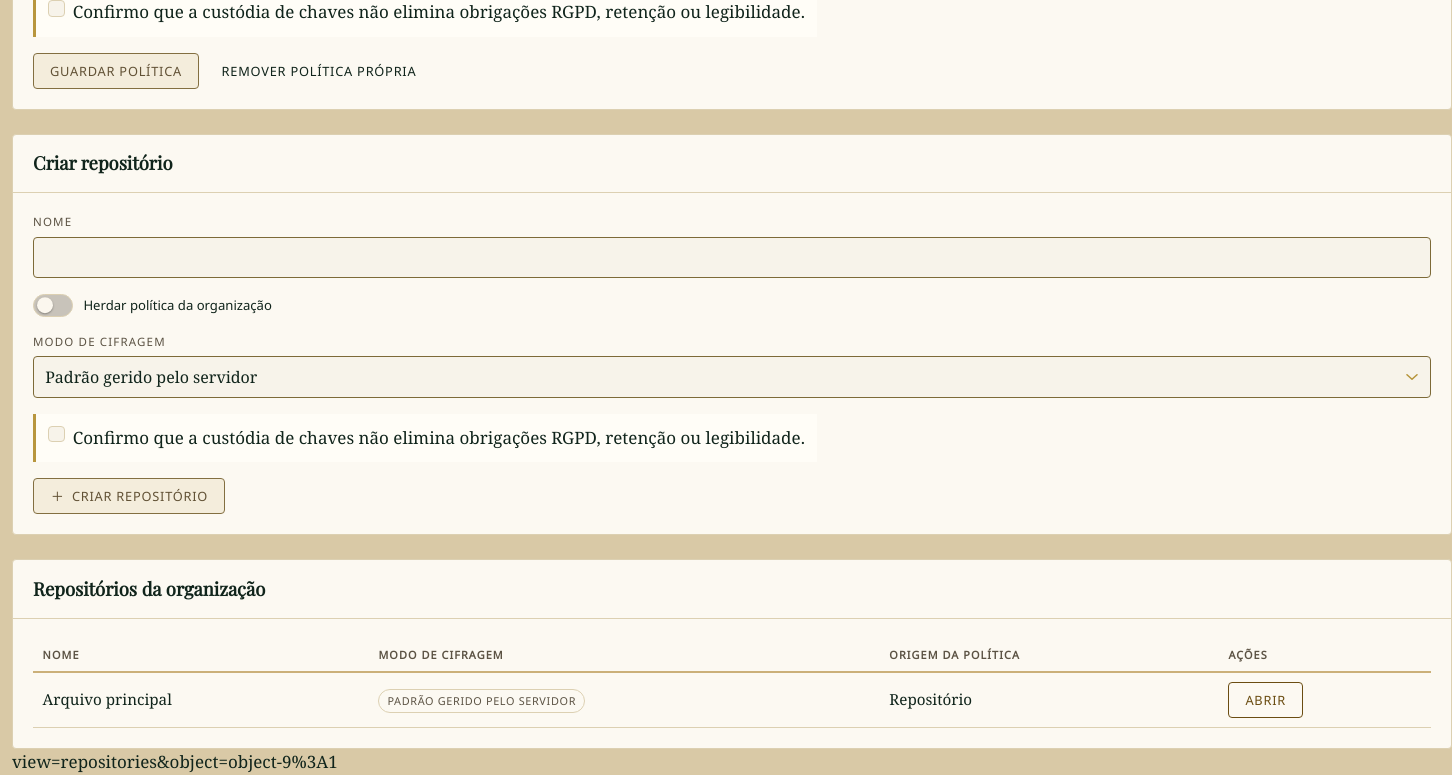
it: repository list › opening a repository deep-links it and drops a stale object selection
Click the button "Abrir" at (1266, 700), box left=1228, top=682, right=1303, bottom=718
(page scrolled)
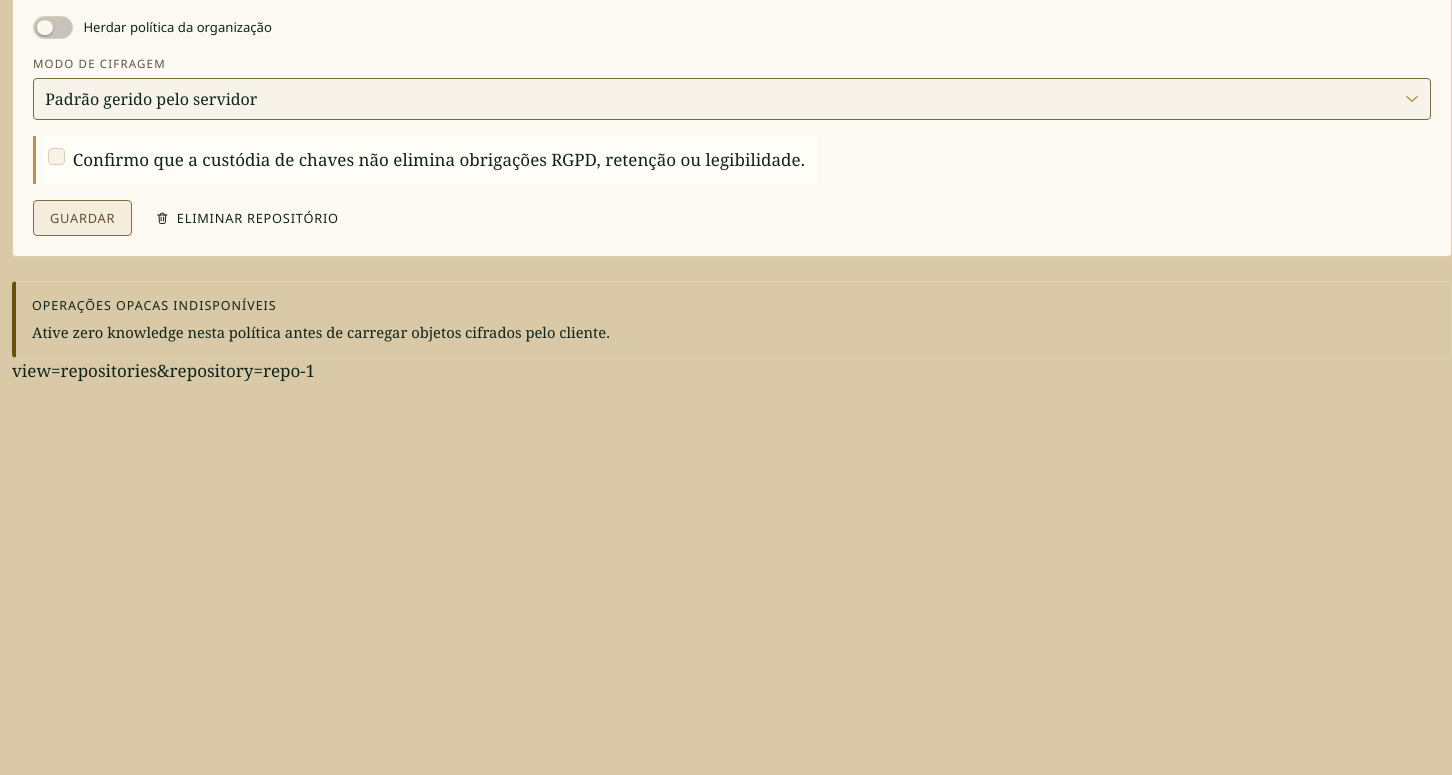
Result: the text with test id "search" reads "view=repositories&repository=repo-1" at left=12, top=359, right=315, bottom=382
